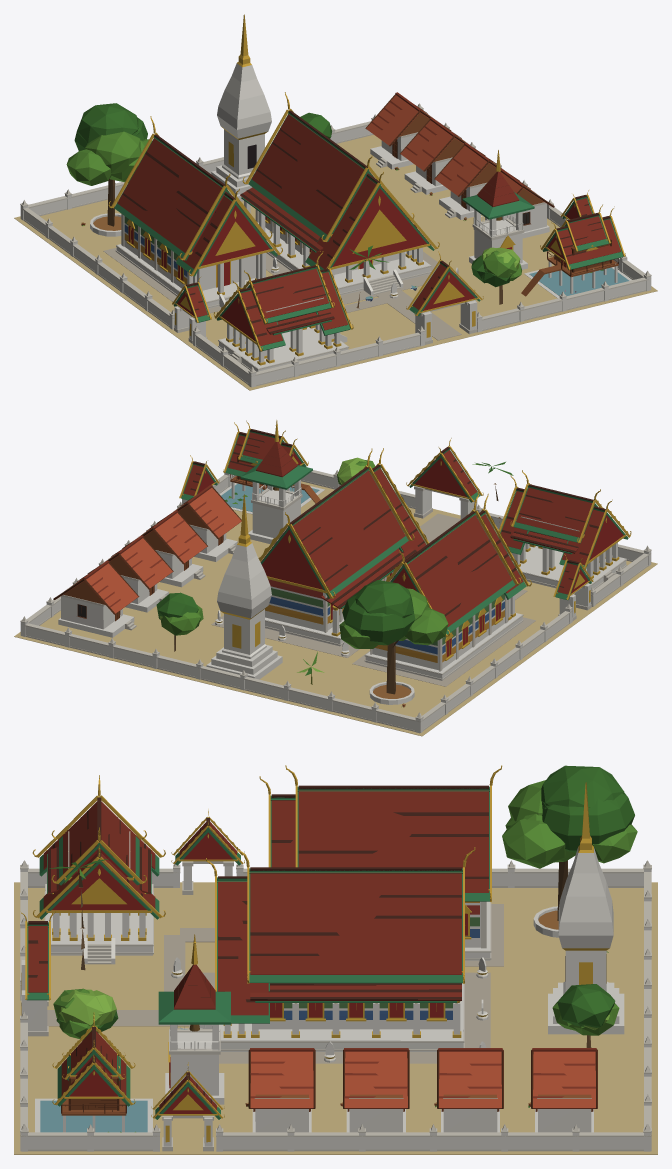
Rendered from temple_3.glb.
3 views of the same model, one above another, from view 1: azimuth 30°, elevation 25°; view 2: azimuth 150°, elevation 25°; view 3: azimuth 270°, elevation 25° (orthographic). The views are drawn at different scales.
Visible parts, largest first — view 1: body; view 2: body; view 3: body.
Boxes of the visible parts, x1,y1,x2,y2 form: body: [14, 14, 657, 390]; body: [14, 420, 657, 736]; body: [14, 765, 657, 1154].
Bounding box in the file's own units: 47.9 × 19.72 × 47.9.
